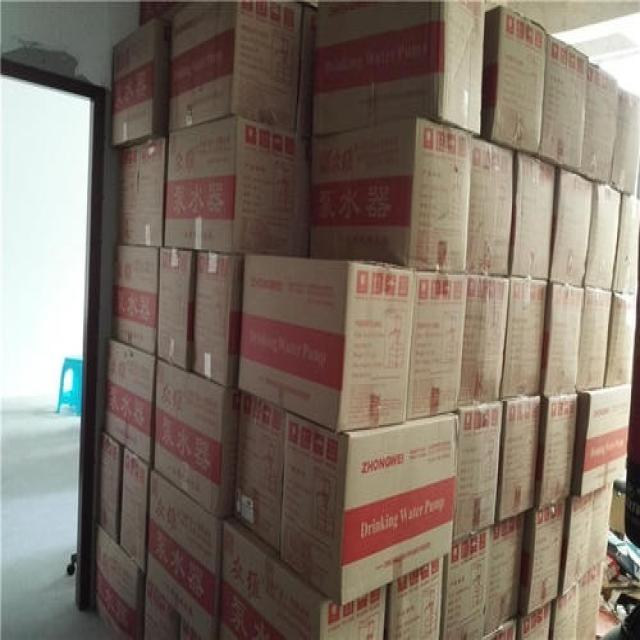box: (280, 411, 461, 608), (238, 253, 415, 432), (310, 116, 472, 271), (312, 0, 485, 137), (164, 118, 312, 256), (220, 519, 387, 640), (169, 0, 303, 131), (151, 358, 241, 521), (146, 471, 221, 640), (481, 7, 548, 157), (232, 391, 287, 555), (408, 273, 467, 420), (111, 19, 172, 152), (453, 401, 503, 546), (538, 34, 589, 174), (102, 336, 156, 468), (191, 253, 243, 389), (466, 137, 515, 276), (571, 384, 631, 497), (518, 497, 571, 618), (461, 275, 509, 406), (509, 154, 556, 282), (499, 280, 548, 399), (561, 485, 613, 597), (95, 526, 145, 640), (495, 396, 540, 522), (116, 137, 168, 246), (548, 167, 593, 287), (442, 529, 489, 640), (534, 396, 579, 510), (540, 283, 585, 396), (580, 63, 622, 184), (484, 514, 525, 637), (113, 246, 159, 355), (385, 558, 444, 640), (156, 247, 195, 370), (582, 183, 622, 290), (552, 561, 603, 640), (120, 447, 150, 575), (576, 287, 612, 391), (604, 292, 639, 386), (611, 90, 640, 196), (99, 430, 123, 544), (613, 195, 640, 294), (142, 580, 179, 640)
